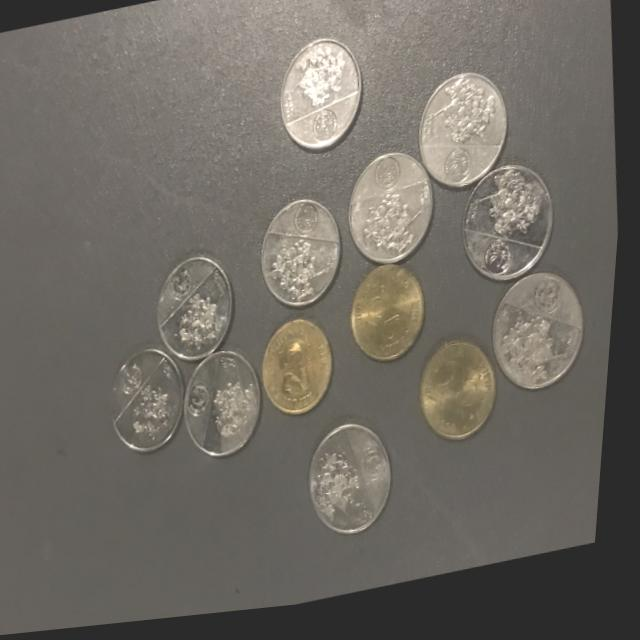1_New_Back: (423, 78, 507, 162), (356, 187, 434, 270), (478, 171, 554, 251), (269, 237, 337, 312), (288, 43, 352, 117)
25Cent_Old_Front: (274, 333, 329, 407)
